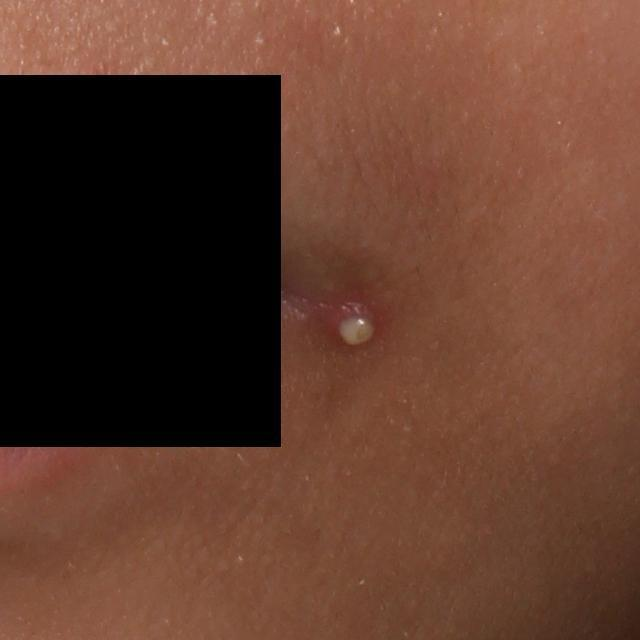pustule: (329, 303, 387, 354)
